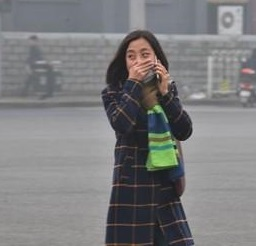person: (98, 26, 200, 246), (23, 34, 47, 97), (239, 48, 256, 107)
